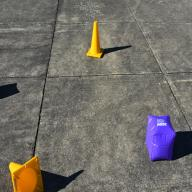cone: (9, 156, 44, 192), (86, 20, 104, 58)
cube: (146, 114, 178, 162)
